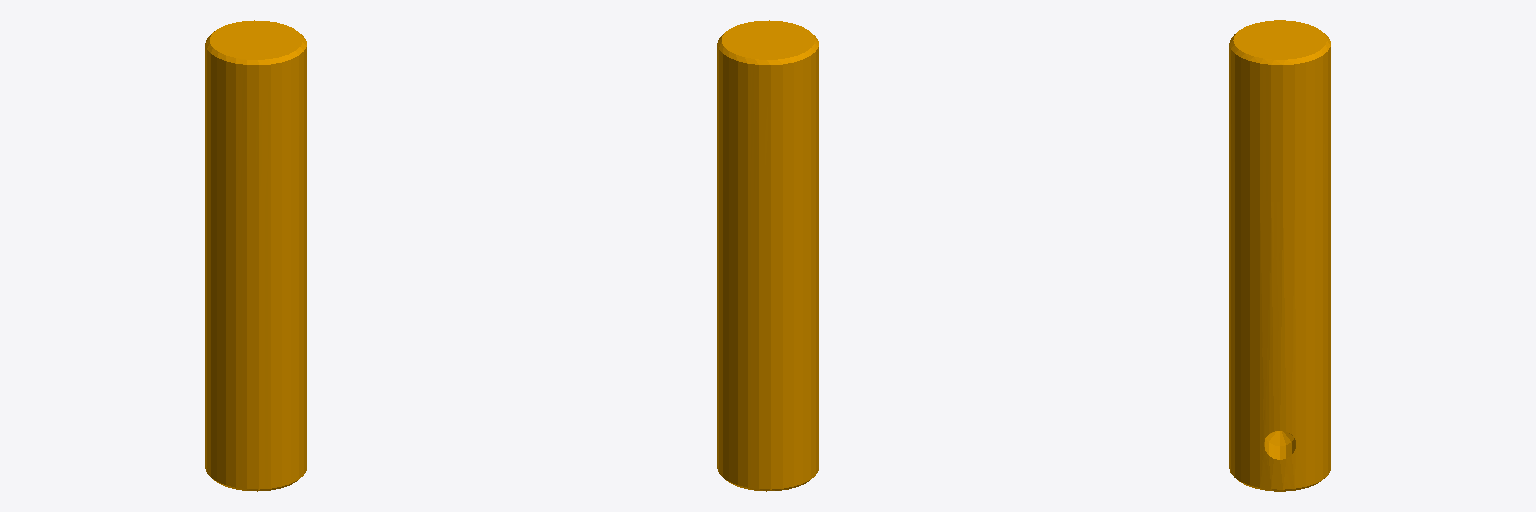
The robot description file, URDF, robot "00731_plug":
<?xml version="1.0"?>
<robot name="00731_plug">
	<link name="00731_plug">
		<visual>
			<geometry>
				<mesh filename="../mesh/00731/asset_plug.obj"/>
			</geometry>
		</visual>
		<collision>
			<geometry>
				<mesh filename="../mesh/00731/asset_plug.obj"/>
			</geometry>
			<sdf resolution="256"/>
		</collision>
	</link>
</robot>

--- Render facts (derived) ---
3 views of the same robot in one strip: view 1: azimuth 30°, elevation 25°; view 2: azimuth 150°, elevation 25°; view 3: azimuth 270°, elevation 25° (orthographic).
Model 00731_plug with 1 links and 0 joints (none), rooted at 00731_plug, posed every joint at zero.
Visible links, largest first — view 1: 00731_plug; view 2: 00731_plug; view 3: 00731_plug.
Link boxes in pixels (x1,y1,x2,y2): 00731_plug: (205,20,306,491); 00731_plug: (717,20,818,491); 00731_plug: (1229,20,1330,491).
Size in the robot's own frame: 0.0086 by 0.0086 by 0.0402 metres.
1 mesh visuals loaded from 1 distinct referenced files (1 OBJ).
